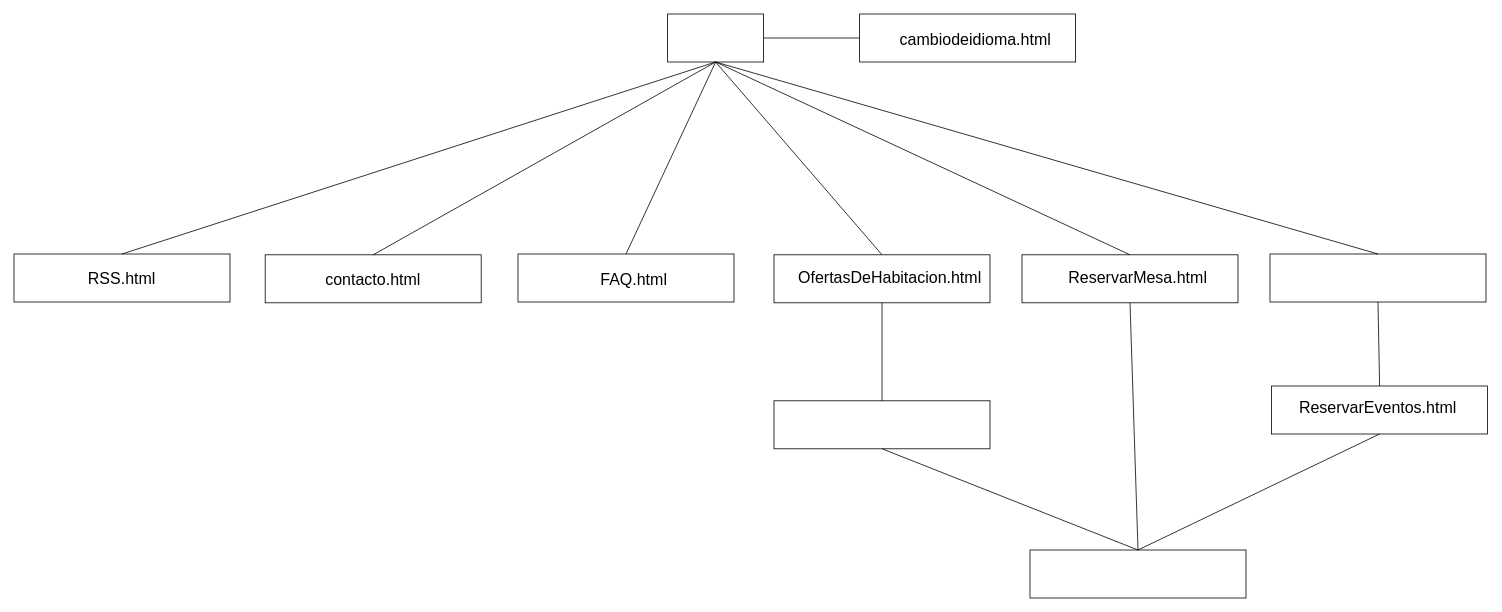
Image size: 1502x612. Some labels were removed from this diagram. Each missing label, with the centre of its shape:
"Home" belongs at (x=715, y=37).
"ListaDeEventos.html" belongs at (x=1377, y=277).
"Pagos.html" belongs at (x=1137, y=573).
"ReservarHabitacion.html" belongs at (x=881, y=424).
